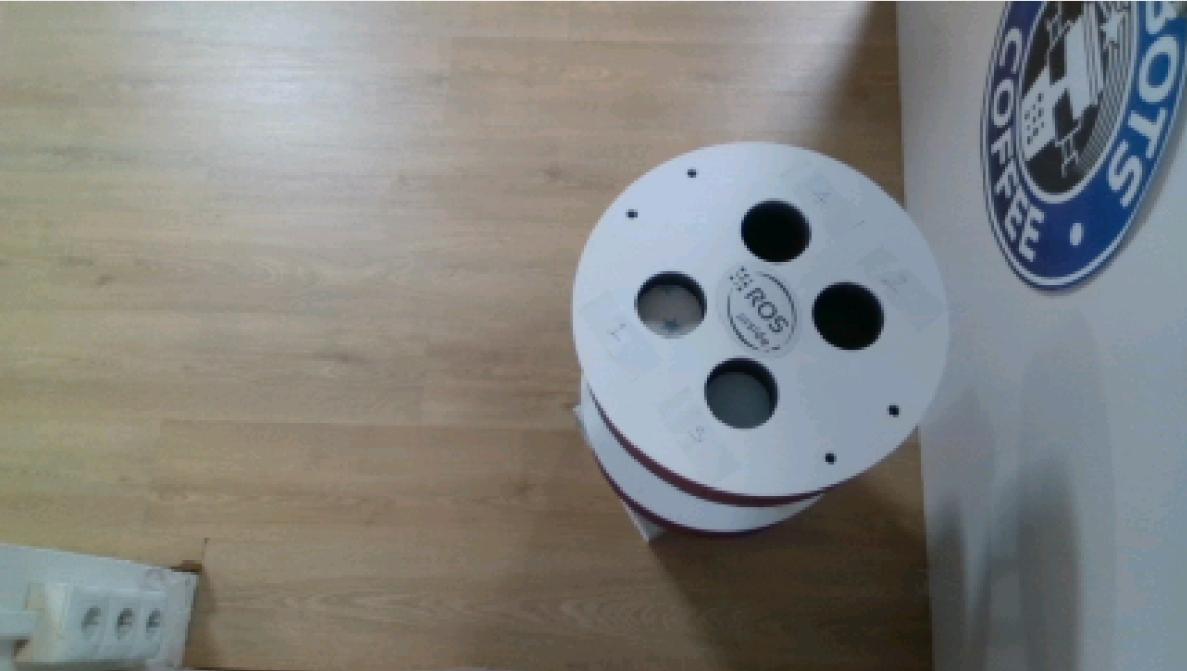hole: (631, 267, 713, 344), (706, 353, 783, 432), (810, 278, 890, 354), (736, 194, 818, 266)
